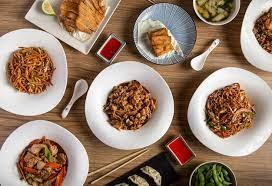Braised Crucian Carp: (85, 60, 173, 149), (186, 67, 270, 156), (1, 28, 69, 116), (0, 119, 88, 186), (132, 2, 196, 65)
